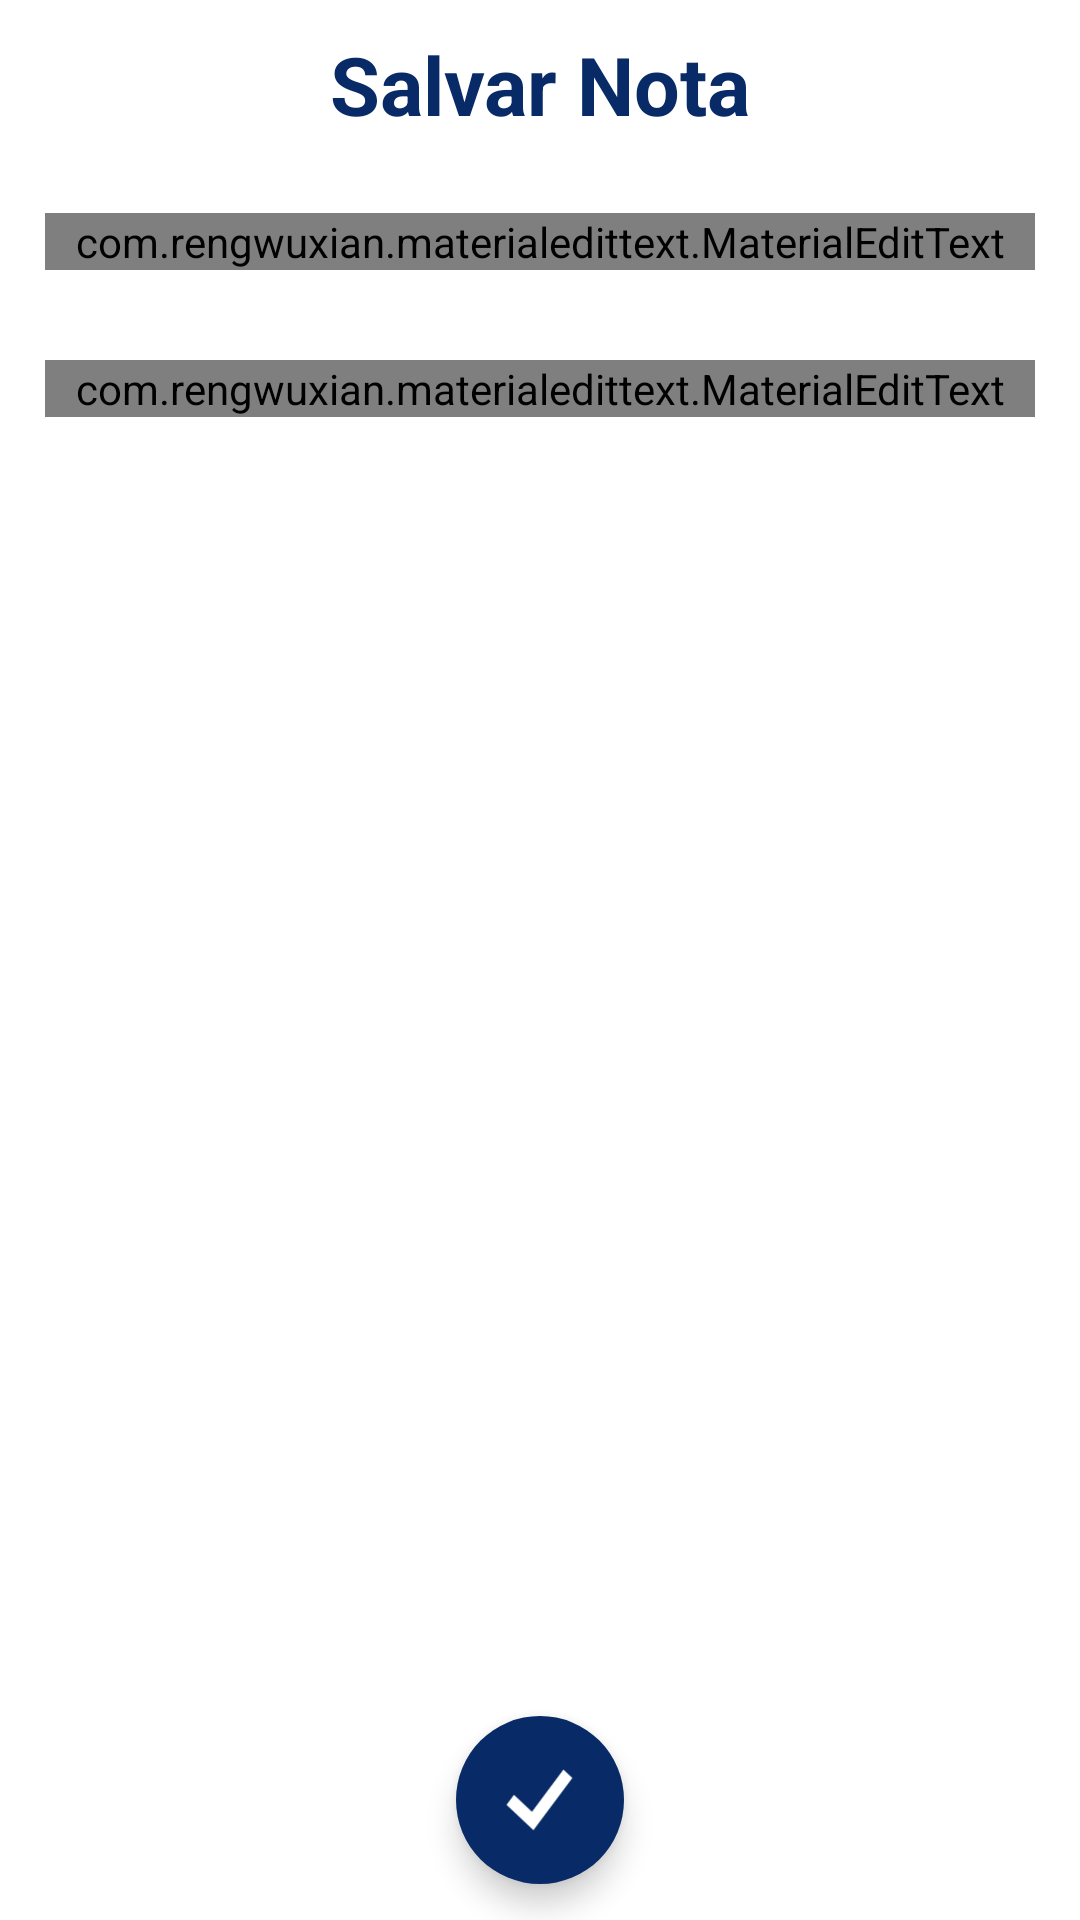

Icons on this 1080px x 1920px Android screen, each with the point to tap as point (x, y):
fab check: point (540, 1800)
